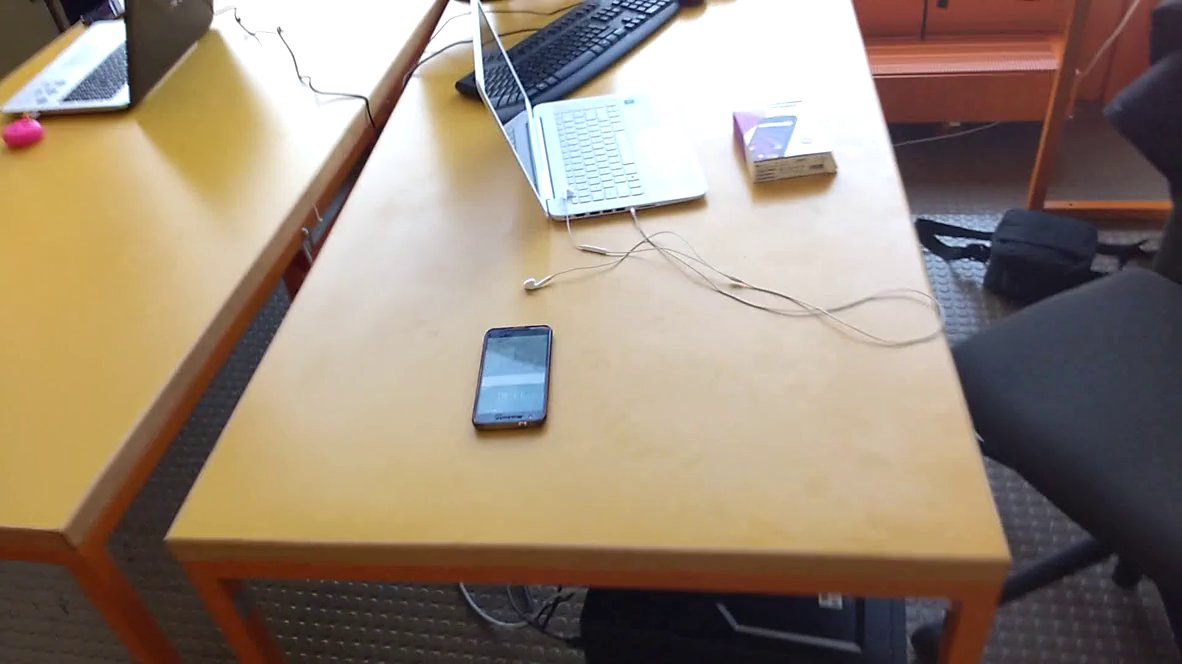laptop: (447, 1, 724, 231)
phone: (462, 313, 564, 447)
